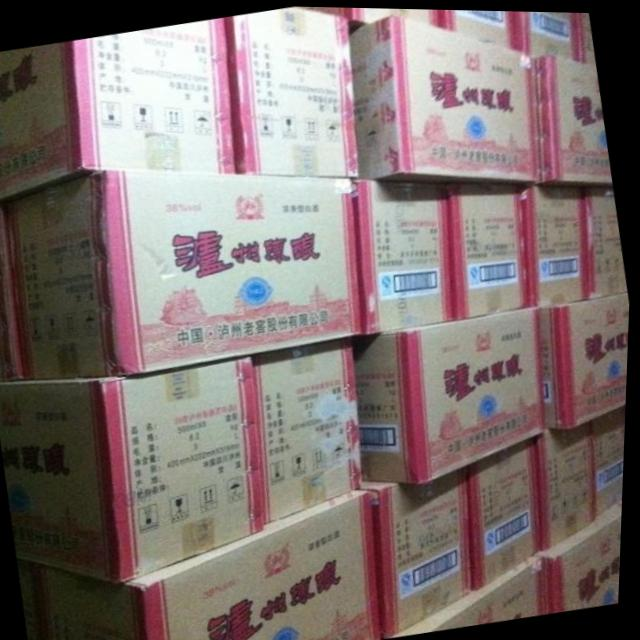box: (6, 170, 363, 380), (0, 352, 271, 584), (21, 486, 387, 640), (0, 16, 239, 202), (355, 303, 549, 482), (351, 9, 541, 182), (224, 5, 361, 177), (253, 334, 368, 522), (365, 463, 477, 636), (355, 176, 456, 333), (387, 548, 546, 636), (538, 289, 632, 427), (447, 179, 534, 317), (472, 434, 544, 589), (534, 50, 614, 184), (543, 496, 626, 610), (522, 182, 594, 303), (538, 416, 600, 549), (585, 182, 629, 298), (0, 202, 28, 382), (517, 9, 595, 63), (594, 401, 629, 517), (441, 8, 521, 48), (306, 5, 441, 23)
